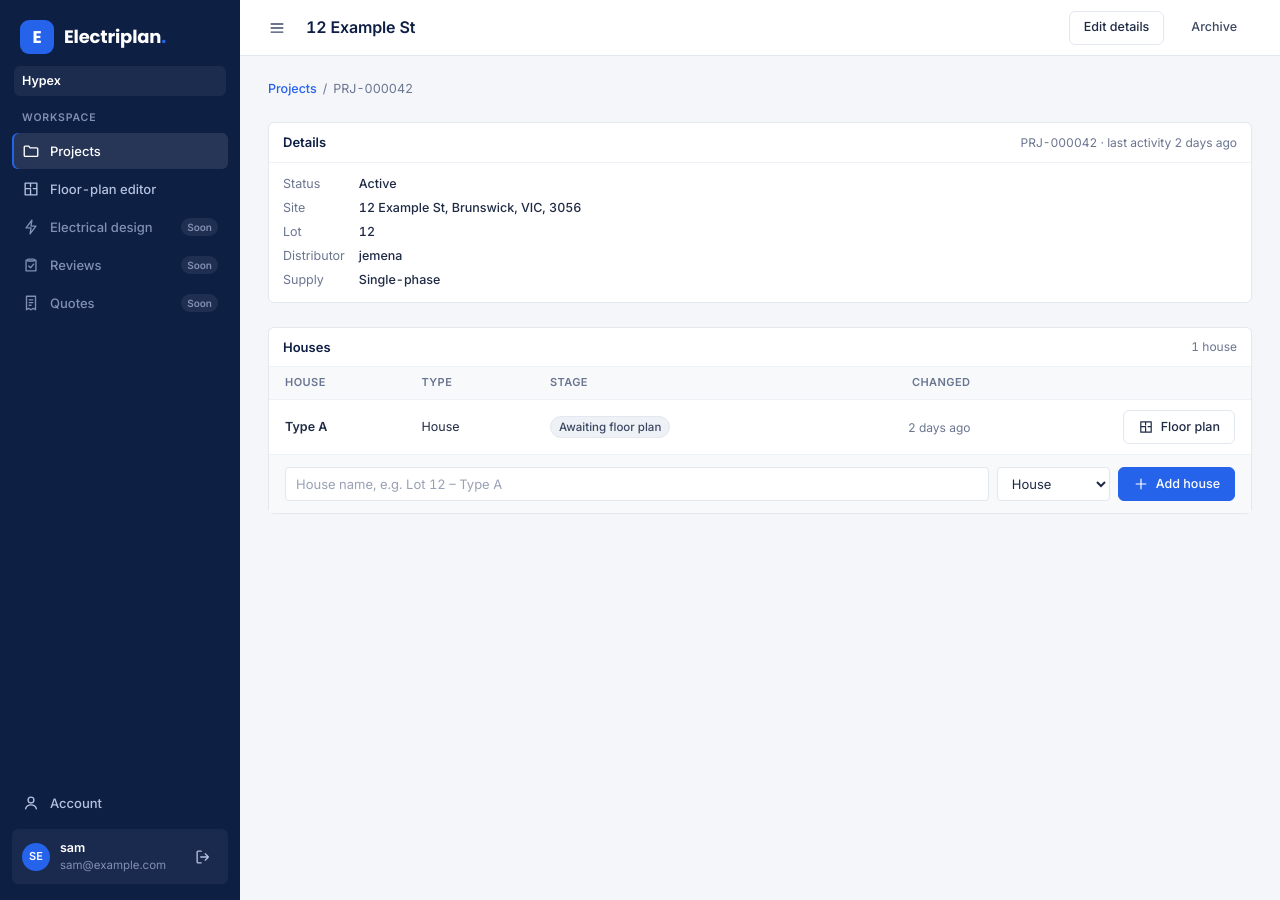
Test: Project page › offers to reload when someone else changed the project meanwhile
The image size is (1280, 900).
Click the button "Edit details".
click(1117, 28)  # box x1=1069 y1=10 x2=1164 y2=44
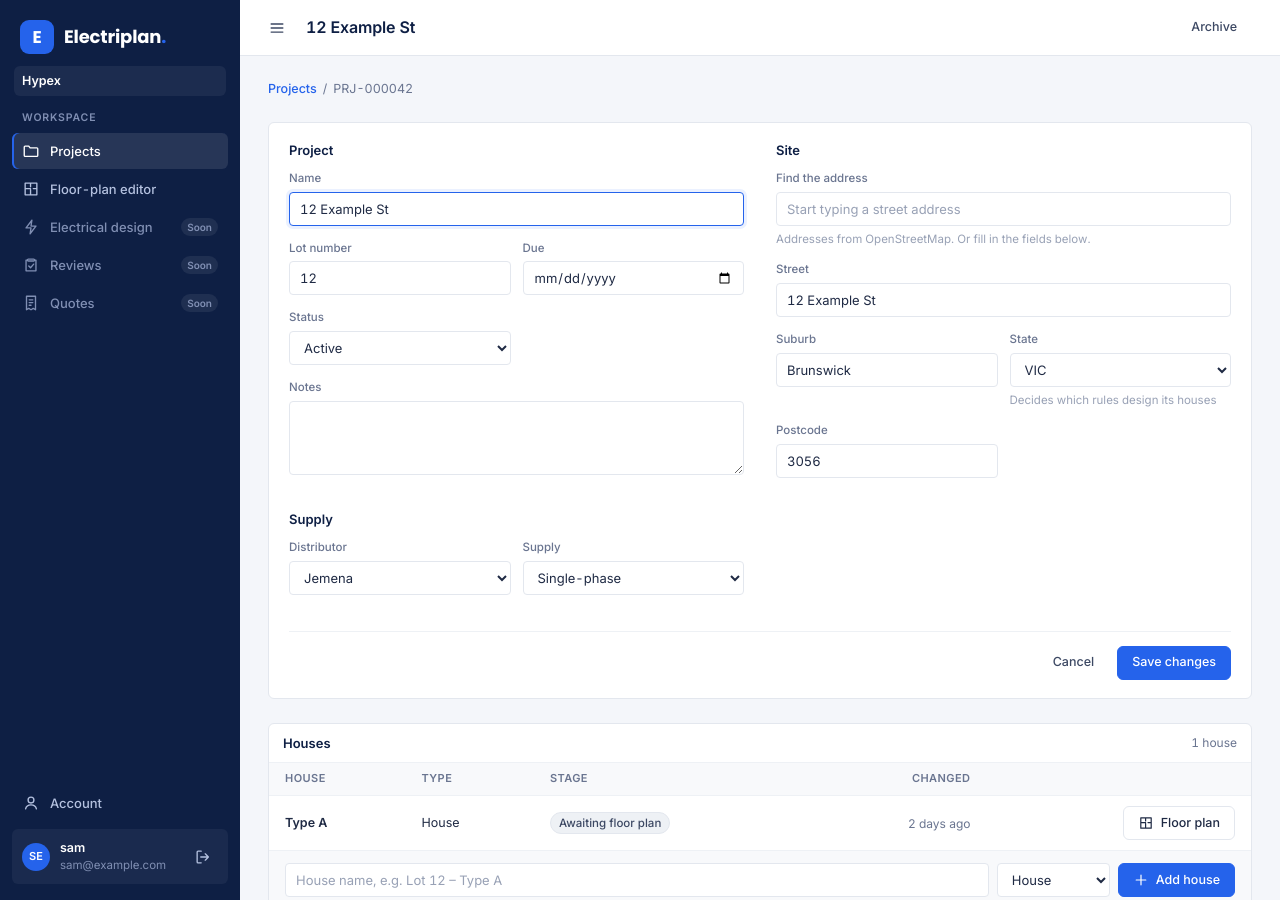
Click the button "Save changes".
click(1174, 662)  # box x1=1117 y1=646 x2=1231 y2=680
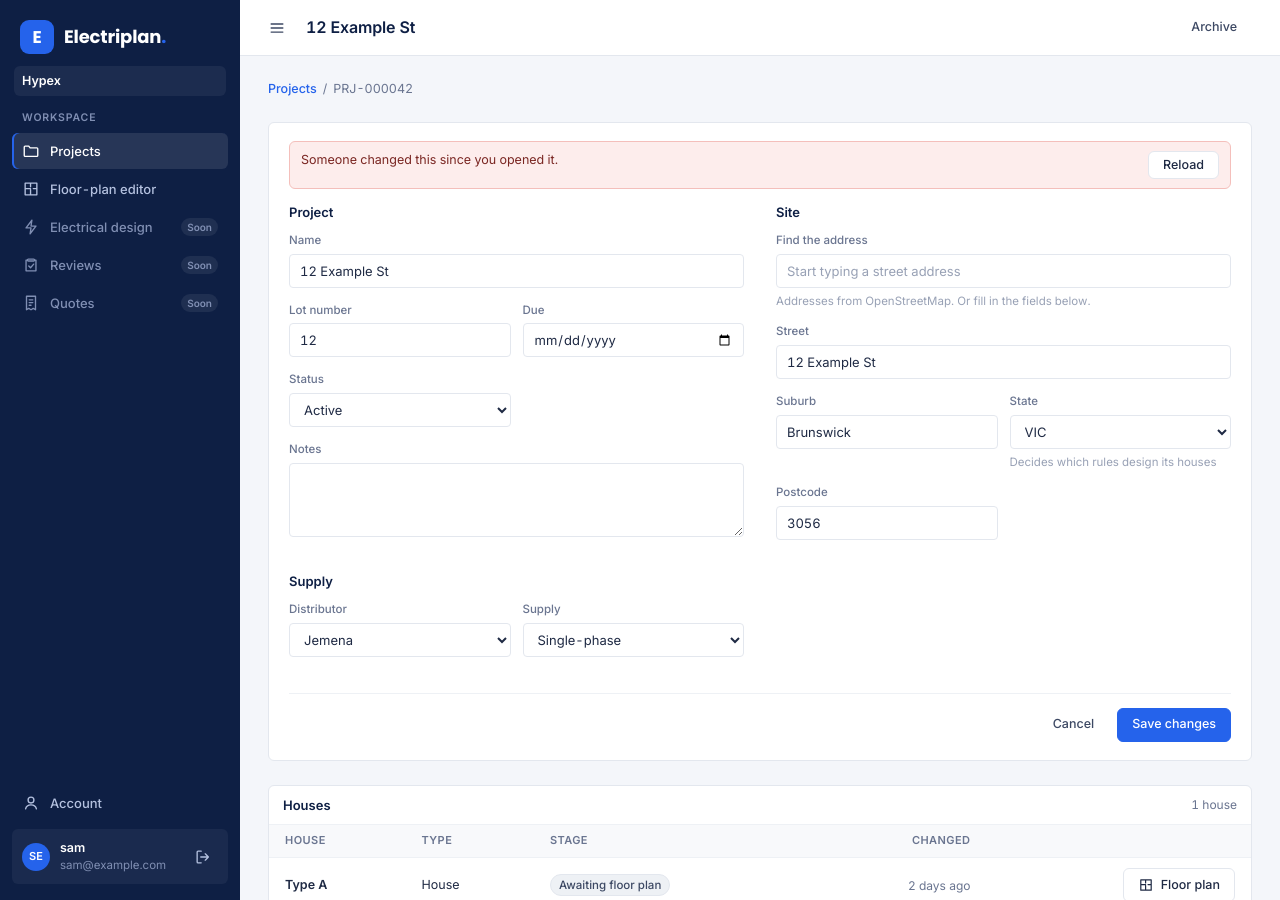
Expected: the message shows "Someone changed this since you opened it.", x1=301 y1=152 x2=558 y2=167
Click the button "Reload".
click(1184, 165)  # box x1=1148 y1=151 x2=1219 y2=179
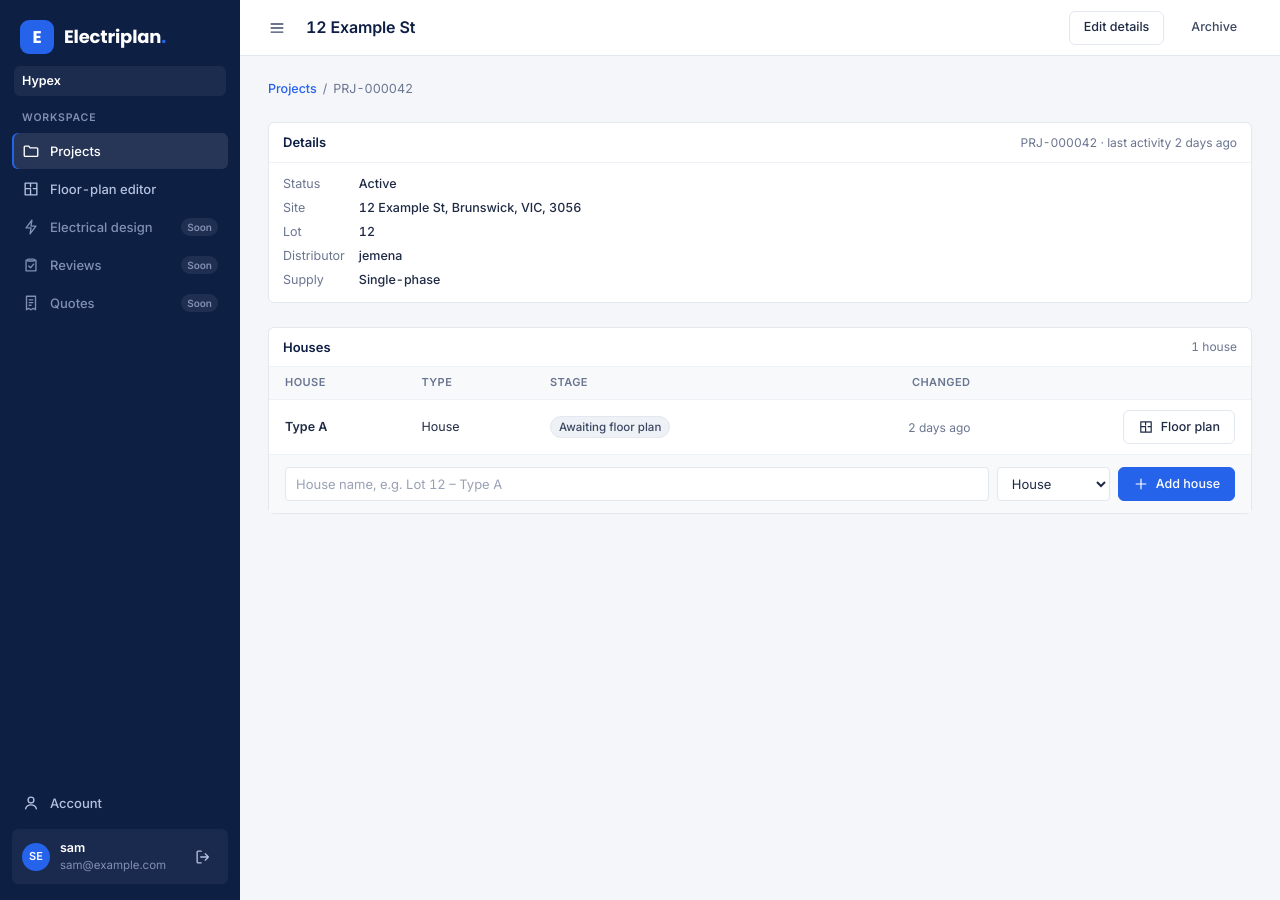
Expected: the button "Save changes" is gone
